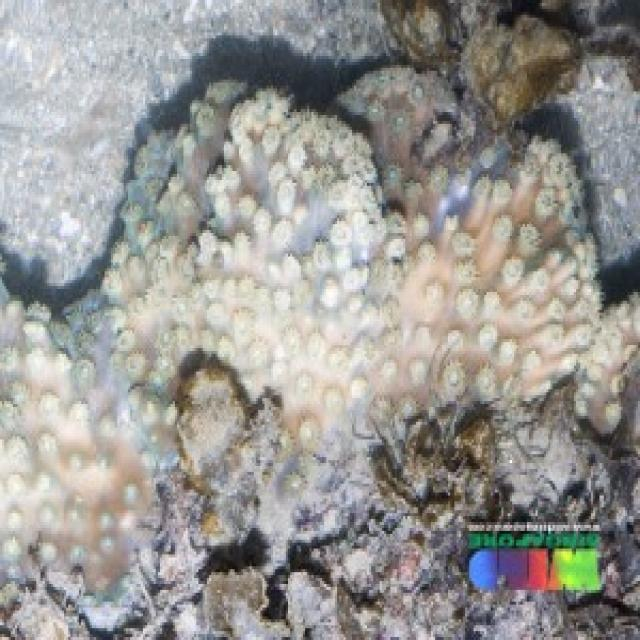Bleached: (1, 66, 639, 640)
Healthy: (381, 2, 640, 137)
